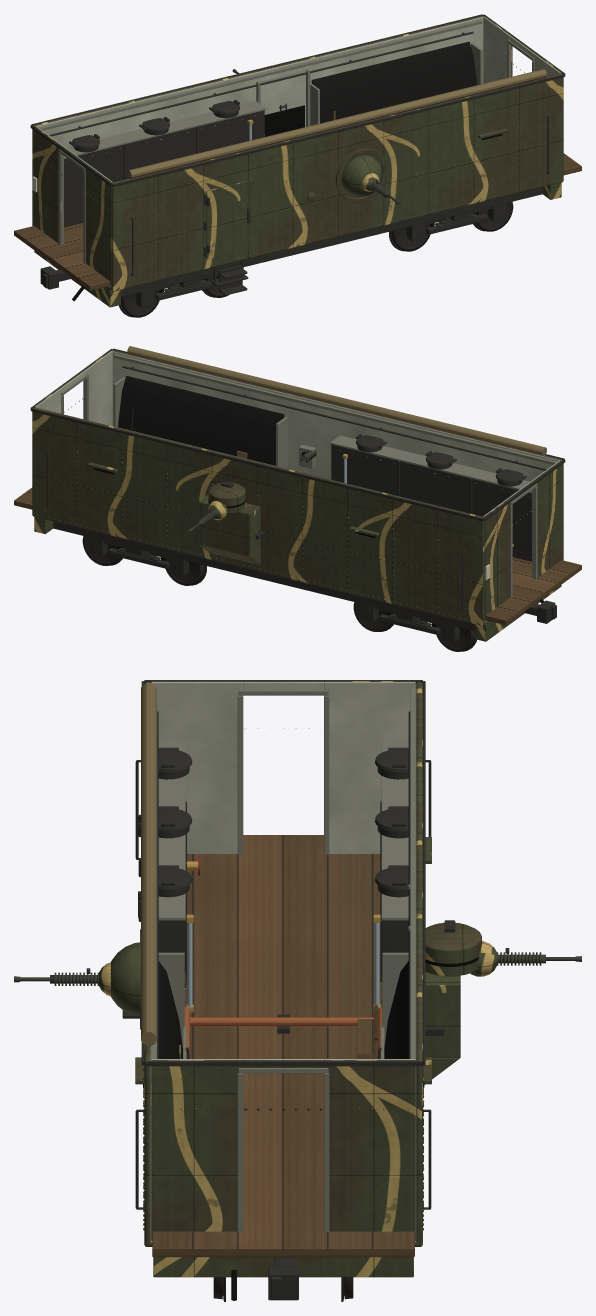
File: tender_car.glb
3 views of the same model, one above another, from view 1: azimuth 30°, elevation 25°; view 2: azimuth 150°, elevation 25°; view 3: azimuth 270°, elevation 25° (orthographic). The views are drawn at different scales.
Visible parts, largest first — view 1: HullShell, HullInterior, HullDetails, Underframe, Bogies, MG_R_Housing, HullRivets, Wheelset_0, Wheelset_2, Wheelset_1, MG_R_Gun; view 2: HullShell, HullInterior, HullDetails, Underframe, Bogies, HullRivets, Wheelset_0, Wheelset_2, Wheelset_3, Wheelset_1, MG_L_Gun; view 3: HullInterior, HullDetails, Underframe, HullShell, MG_R_Housing, MG_L_Gun, MG_R_Gun, HullRivets.
Boxes of the visible parts, bbox=[...] form: HullShell: bbox=[32, 15, 563, 291]; HullInterior: bbox=[14, 16, 581, 290]; HullDetails: bbox=[30, 14, 565, 295]; Underframe: bbox=[34, 182, 561, 307]; Bogies: bbox=[136, 203, 506, 307]; MG_R_Housing: bbox=[342, 155, 382, 196]; HullRivets: bbox=[35, 64, 548, 288]; Wheelset_0: bbox=[389, 224, 430, 251]; Wheelset_2: bbox=[119, 290, 159, 317]; Wheelset_1: bbox=[473, 201, 513, 231]; MG_R_Gun: bbox=[362, 173, 400, 204]; HullShell: bbox=[32, 350, 563, 625]; HullInterior: bbox=[14, 346, 581, 625]; HullDetails: bbox=[30, 348, 565, 610]; Underframe: bbox=[34, 517, 561, 641]; Bogies: bbox=[89, 537, 459, 641]; HullRivets: bbox=[48, 398, 560, 623]; Wheelset_0: bbox=[165, 558, 206, 585]; Wheelset_2: bbox=[436, 624, 476, 651]; Wheelset_3: bbox=[353, 602, 393, 631]; Wheelset_1: bbox=[82, 536, 122, 565]; MG_L_Gun: bbox=[187, 501, 227, 532]; HullInterior: bbox=[141, 681, 415, 1256]; HullDetails: bbox=[122, 680, 481, 1209]; Underframe: bbox=[153, 1257, 413, 1300]; HullShell: bbox=[144, 682, 422, 1246]; MG_R_Housing: bbox=[110, 942, 139, 1016]; MG_L_Gun: bbox=[470, 941, 581, 976]; MG_R_Gun: bbox=[14, 962, 186, 996]; HullRivets: bbox=[143, 687, 423, 1230].
Bounding box in the file's own units: 11.32 × 3.59 × 6.32.
16 materials, 3 textured.
